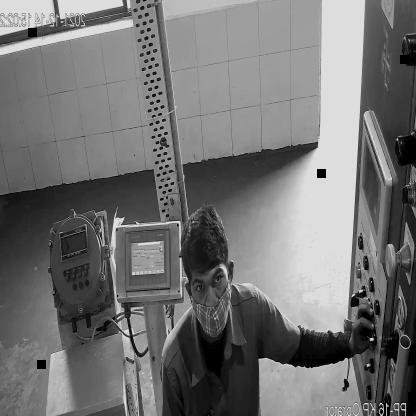no_goggles: (191, 268, 225, 300)
